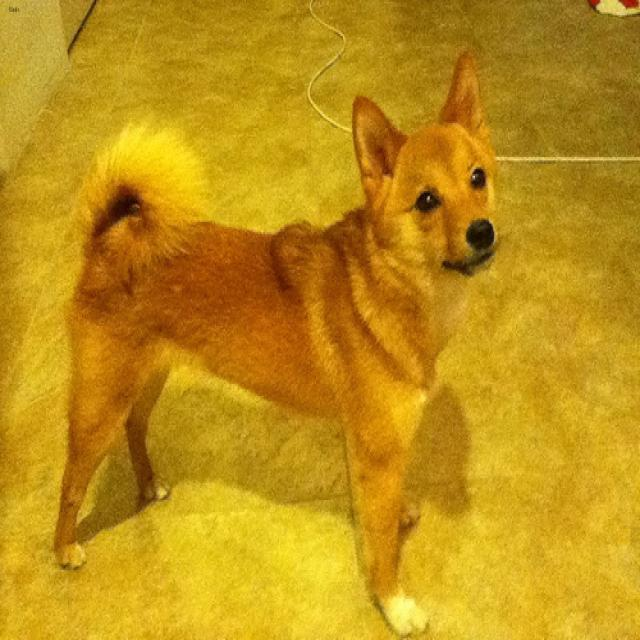dog-shiba_inu: (42, 41, 509, 637)
